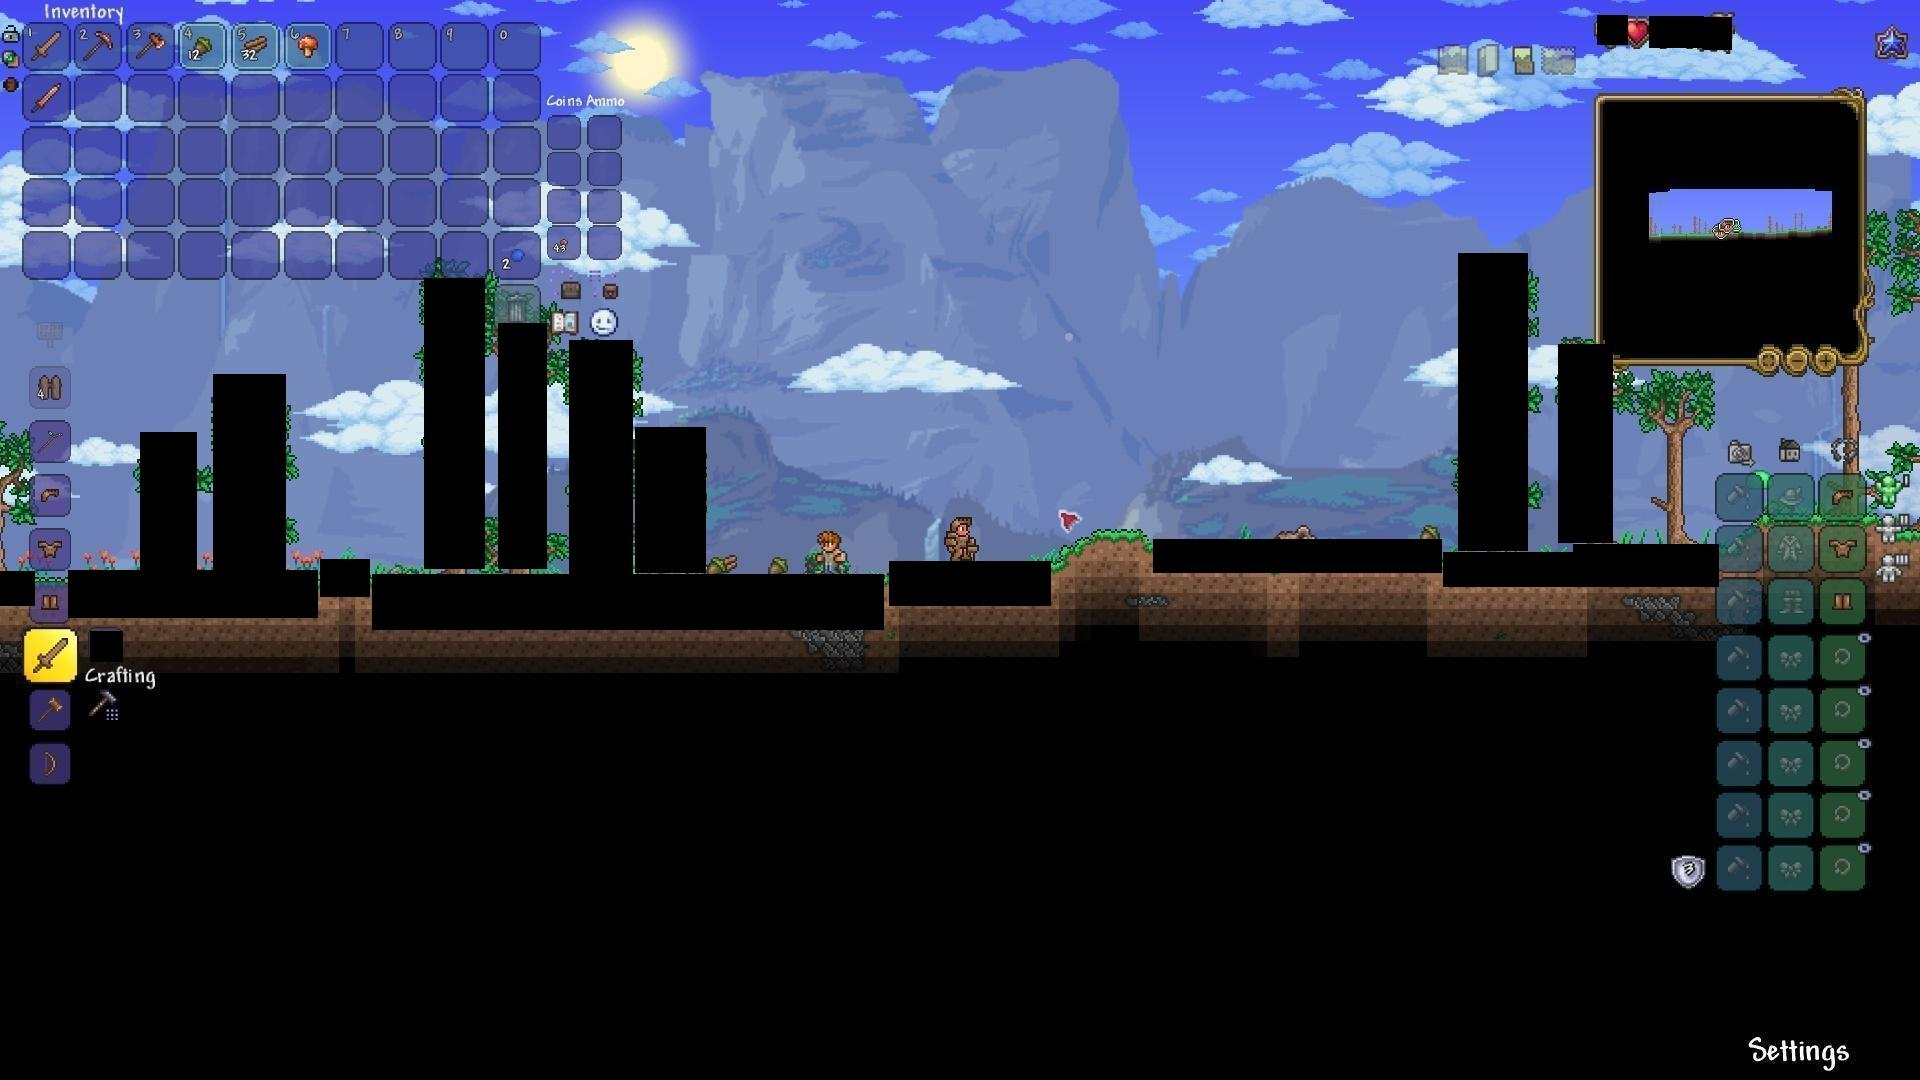breastplate: (36, 538, 66, 559), (1830, 537, 1859, 558)
dirt: (1060, 524, 1147, 571)
heart: (1625, 17, 1652, 47)
helmet: (1826, 483, 1857, 510), (36, 481, 66, 509)
legs: (37, 589, 62, 618), (1832, 588, 1857, 616)
tree: (1647, 371, 1706, 543), (0, 425, 28, 578)
wood: (237, 29, 270, 59), (716, 549, 737, 578)
